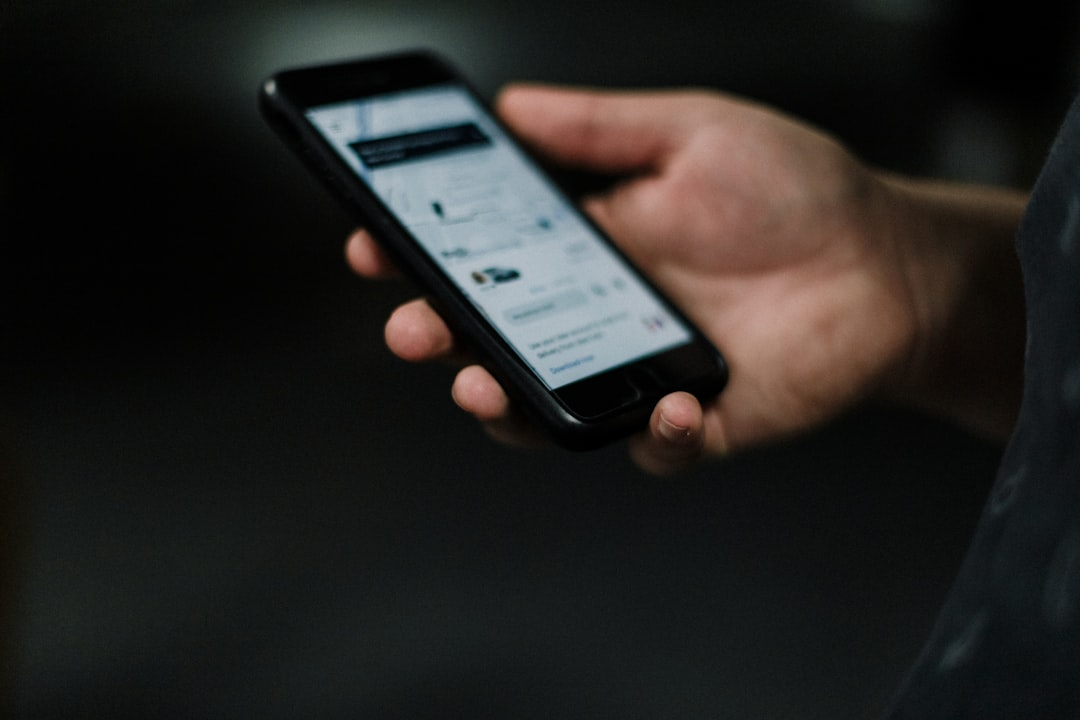phone: (258, 50, 733, 456)
